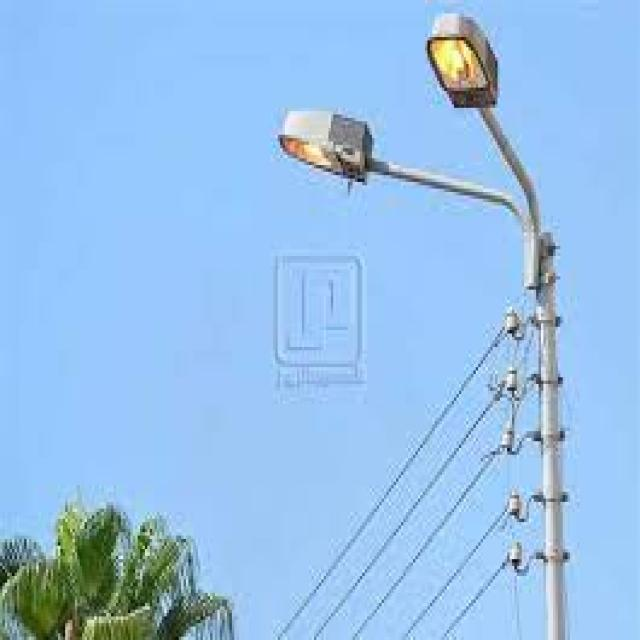Street Light: (275, 13, 570, 640)
